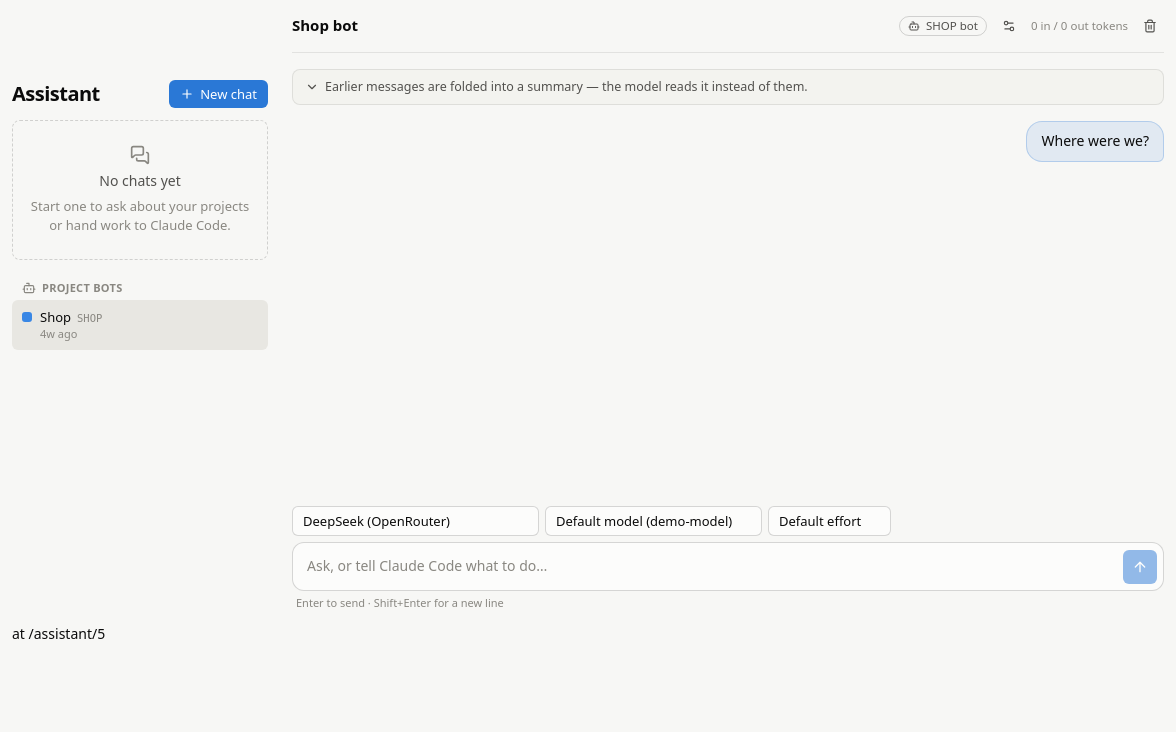
Test: Project bots › opens a bot's chat, shows the folded summary and offers a reset
This screenshot has width=1176, height=732.
Expected: the text "at /assistant/5" is shown, [12, 624, 105, 643]
Expected: the text "The checkout flow is being reworked." is not shown
Click the button "folded into a summary" at (728,87), box [305, 78, 1151, 96]
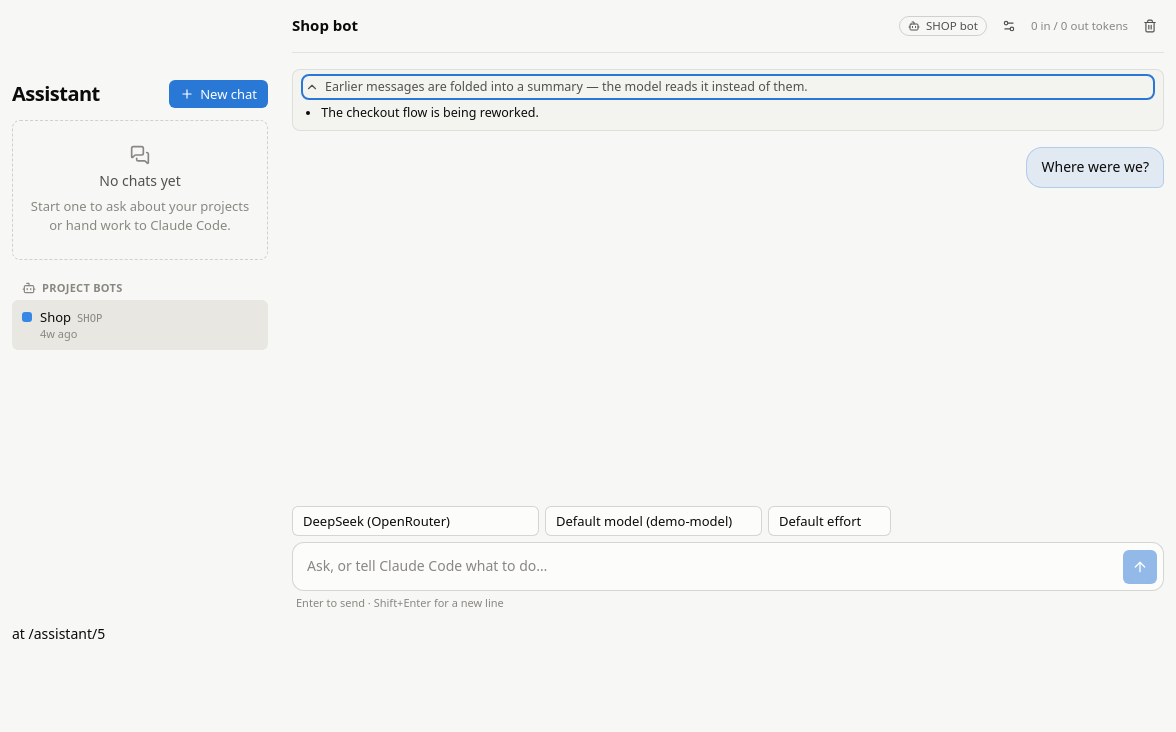
Expected: the button named "Reset the SHOP bot" is shown, [1136, 12, 1164, 40]
Result: the list item "The checkout flow is being reworked." is shown at [321, 104, 539, 121]
